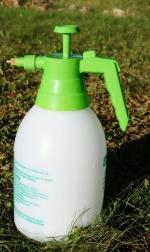PULVERISATEUR: (6, 13, 150, 252)
